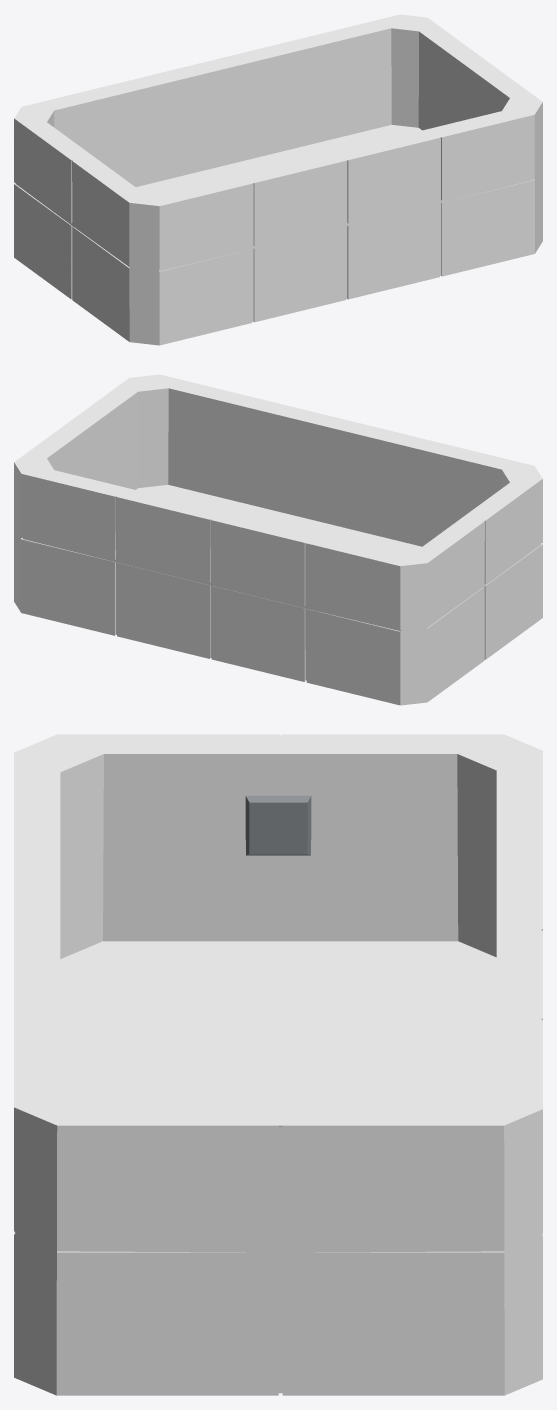
Rendered from Bath_Tub.fbx.
3 renders of one model, top to bottom at view 1: azimuth 30°, elevation 25°; view 2: azimuth 150°, elevation 25°; view 3: azimuth 270°, elevation 25°, orthographic. The views are drawn at different scales.
Parts seen in each view (by area): view 1: polySurface1858; view 2: polySurface1858; view 3: polySurface1858.
Part boxes in pixels (x1,y1,x2,y2): polySurface1858: [14, 14, 542, 345]; polySurface1858: [14, 374, 542, 705]; polySurface1858: [14, 734, 542, 1395].
Bounding box in the file's own units: 2.8 × 0.9022 × 1.6.
1 material, 1 textured.
